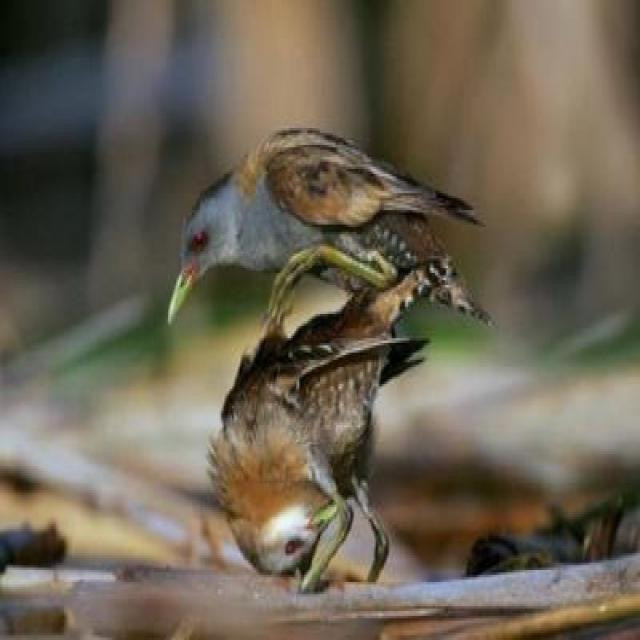birds: (198, 246, 482, 615), (159, 117, 510, 352)
